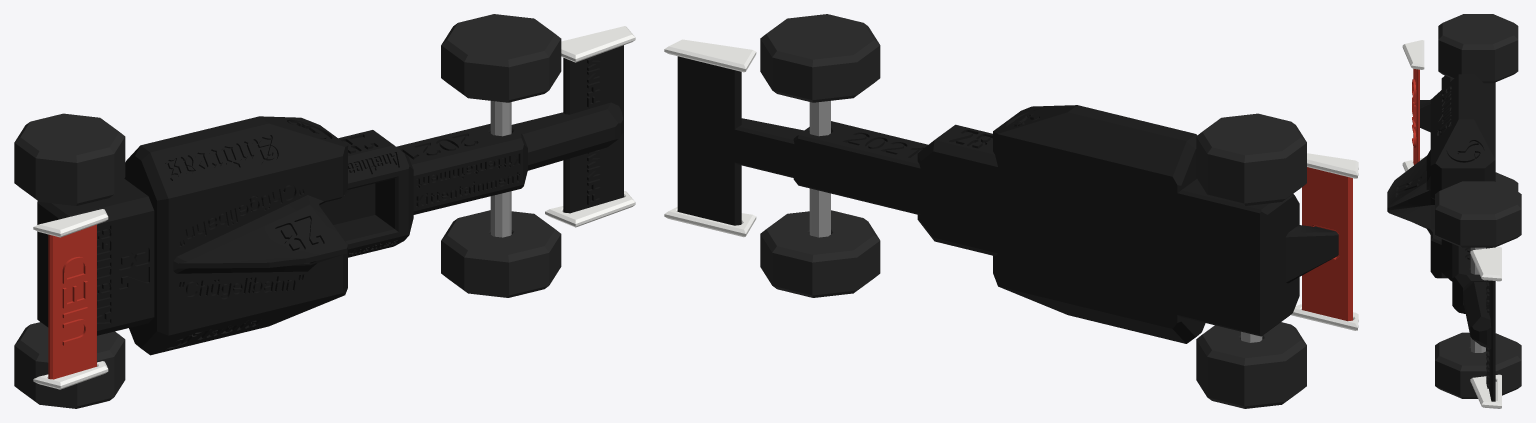
The model's file is F1CarPrint v4.fbx.
The picture shows the model from 3 angles, left to right: view 1: azimuth 30°, elevation 25°; view 2: azimuth 150°, elevation 25°; view 3: azimuth 270°, elevation 25°; orthographic projection. The views are drawn at different scales.
Parts seen in each view (by area): view 1: CarBody, FrontLeftWheel, BackLeftWheel, FrontRightWheel, HeckSpoil, BackRightWheel, FrontSpoilLeftFlap, FrontSpoilRightFlap, HeckSpoilLeftFlap, FrontAxis, HeckSpoilRightFlap, FrontAxisL; view 2: CarBody, FrontLeftWheel, BackLeftWheel, FrontRightWheel, BackRightWheel, HeckSpoil, FrontSpoilLeftFlap, FrontSpoilRightFlap, FrontAxis, HeckSpoilLeftFlap, FrontAxisL, HeckSpoilRightFlap; view 3: CarBody, FrontLeftWheel, BackLeftWheel, FrontRightWheel, FrontSpoilLeftFlap, HeckSpoil, FrontSpoilRightFlap, HeckSpoilLeftFlap, BackRightWheel, FrontAxis, FrontAxisL.
Boxes of the visible parts, x1,y1,x2,y2 form: CarBody: (37,45,623,355); FrontLeftWheel: (441,14,561,102); BackLeftWheel: (14,113,125,205); FrontRightWheel: (441,210,561,297); HeckSpoil: (48,224,96,379); BackRightWheel: (14,322,125,408); FrontSpoilLeftFlap: (561,26,635,62); FrontSpoilRightFlap: (545,191,635,227); HeckSpoilLeftFlap: (33,209,108,237); FrontAxis: (490,191,511,237); HeckSpoilRightFlap: (33,361,108,389); FrontAxisL: (490,101,511,136); CarBody: (677,56,1338,343); FrontLeftWheel: (760,14,880,102); BackLeftWheel: (1196,113,1306,205); FrontRightWheel: (760,210,880,297); BackRightWheel: (1196,322,1306,408); HeckSpoil: (1302,167,1352,321); FrontSpoilLeftFlap: (664,39,756,72); FrontSpoilRightFlap: (664,207,756,237); FrontAxis: (809,188,830,237); HeckSpoilLeftFlap: (1307,153,1358,178); FrontAxisL: (809,101,830,136); HeckSpoilRightFlap: (1291,304,1358,330); CarBody: (1387,74,1495,401); FrontLeftWheel: (1435,181,1521,247); BackLeftWheel: (1438,14,1518,83); FrontRightWheel: (1435,332,1521,398); FrontSpoilLeftFlap: (1470,247,1501,281); HeckSpoil: (1412,69,1419,164); FrontSpoilRightFlap: (1470,374,1501,408); HeckSpoilLeftFlap: (1402,40,1424,69); BackRightWheel: (1495,172,1518,191); FrontAxis: (1470,337,1485,352); FrontAxisL: (1470,247,1485,274).
Bounding box in the file's own units: 266 × 100 × 62.
